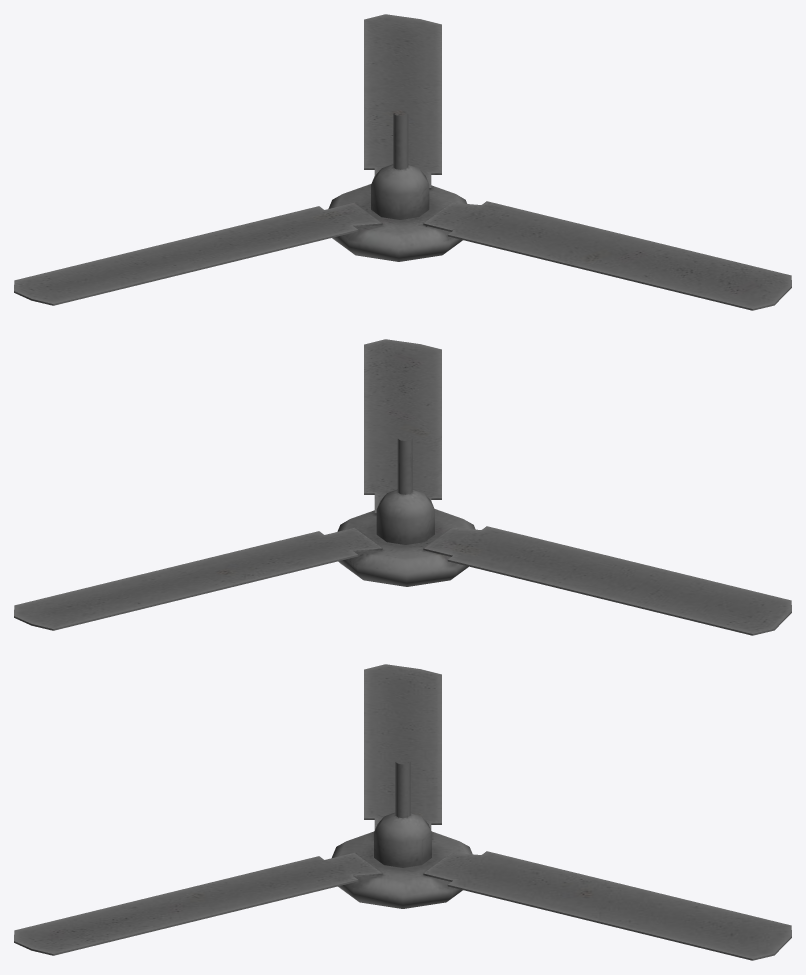
The model's file is CeilingFan.glb.
3 views of the same model, one above another, from view 1: azimuth 30°, elevation 25°; view 2: azimuth 150°, elevation 25°; view 3: azimuth 270°, elevation 25° (orthographic).
Parts seen in each view (by area): view 1: fanBlades1, fanBase1; view 2: fanBlades1, fanBase1; view 3: fanBlades1, fanBase1.
Boxes of the visible parts, box(x1,y1,x2,y2) form: fanBlades1: box(14, 14, 791, 310); fanBase1: box(328, 114, 467, 261); fanBlades1: box(14, 339, 791, 635); fanBase1: box(337, 439, 475, 586); fanBlades1: box(14, 664, 791, 960); fanBase1: box(332, 762, 472, 908).
Size of the model in its own units: 2.19 by 0.4704 by 2.49.
1 material, 1 textured.
